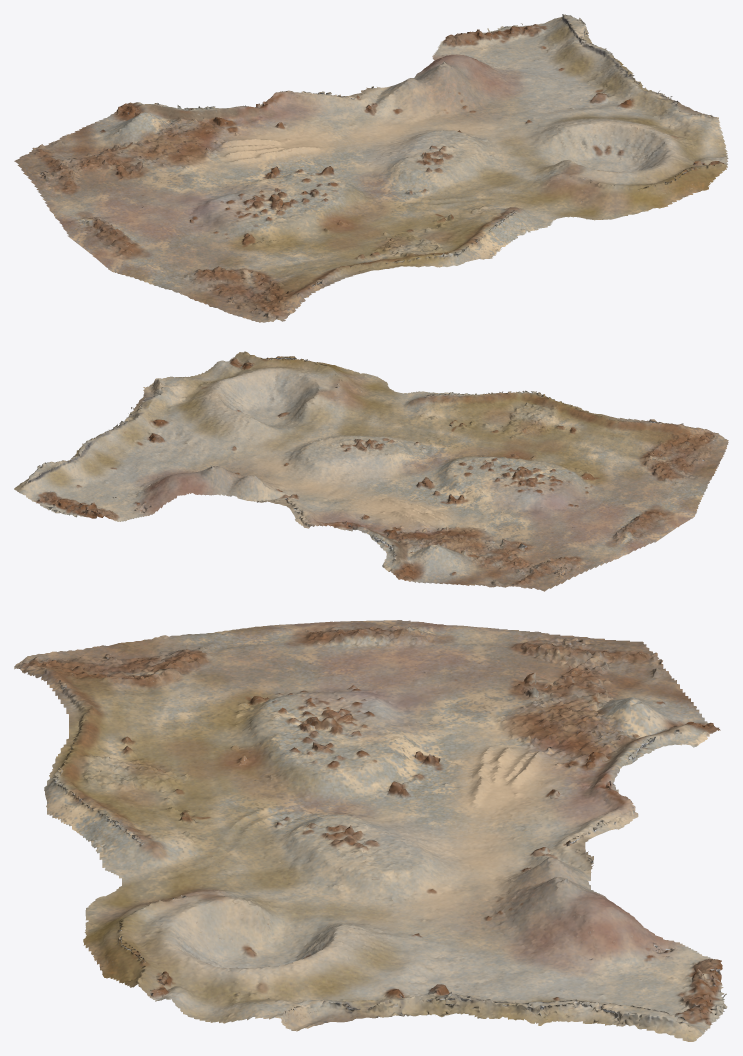
Rendered from ERC_Groundv4.glb.
3 renders of one model, top to bottom at view 1: azimuth 30°, elevation 25°; view 2: azimuth 150°, elevation 25°; view 3: azimuth 270°, elevation 25°, orthographic. The views are drawn at different scales.
Parts seen in each view (by area): view 1: ERC; view 2: ERC; view 3: ERC.
Boxes of the visible parts, x1,y1,x2,y2 form: ERC: (14,14,728,322); ERC: (14,351,728,591); ERC: (14,620,727,1041).
Bounding box in the file's own units: 35.75 × 2.21 × 26.5.
Materials: 1 (1 with a texture image).
